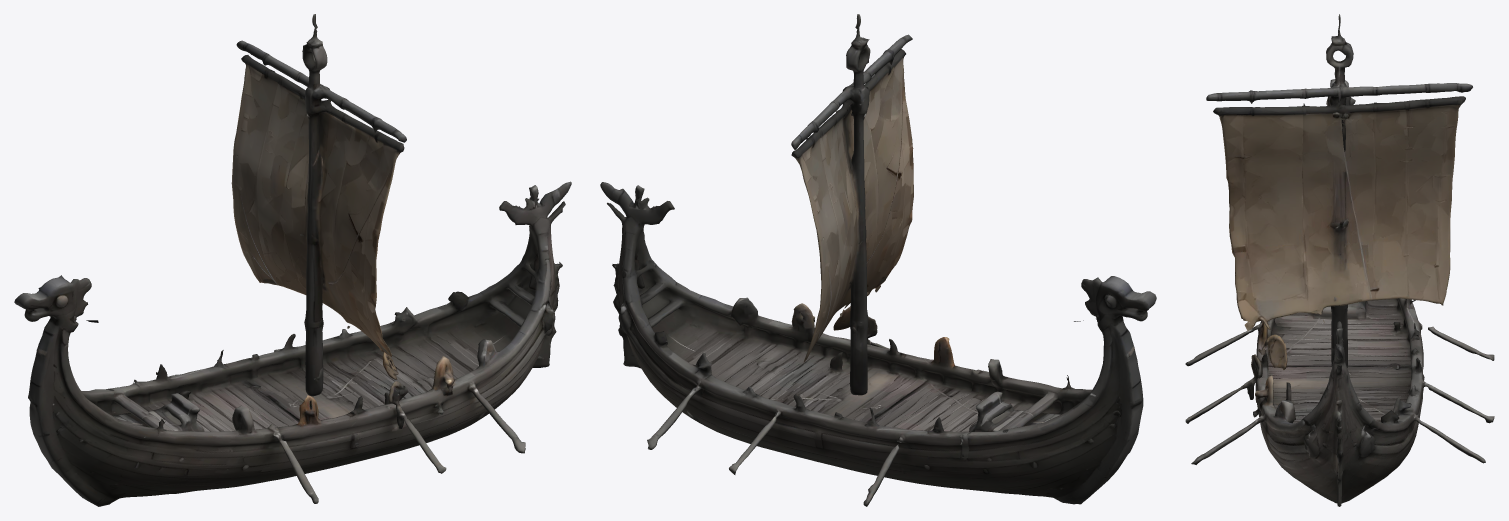
Rendered from ship_viking.fbx.
The picture shows the model from 3 angles, left to right: view 1: azimuth 30°, elevation 25°; view 2: azimuth 150°, elevation 25°; view 3: azimuth 270°, elevation 25°; orthographic projection. The views are drawn at different scales.
Parts seen in each view (by area): view 1: tripo_node_8ae9c94e; view 2: tripo_node_8ae9c94e; view 3: tripo_node_8ae9c94e.
Part boxes in pixels (box(x1,y1,x2,y2)): tripo_node_8ae9c94e: box(14, 14, 571, 506); tripo_node_8ae9c94e: box(600, 14, 1156, 506); tripo_node_8ae9c94e: box(1185, 14, 1494, 506).
Bounding box in the file's own units: 98.87 × 74.87 × 50.81.
